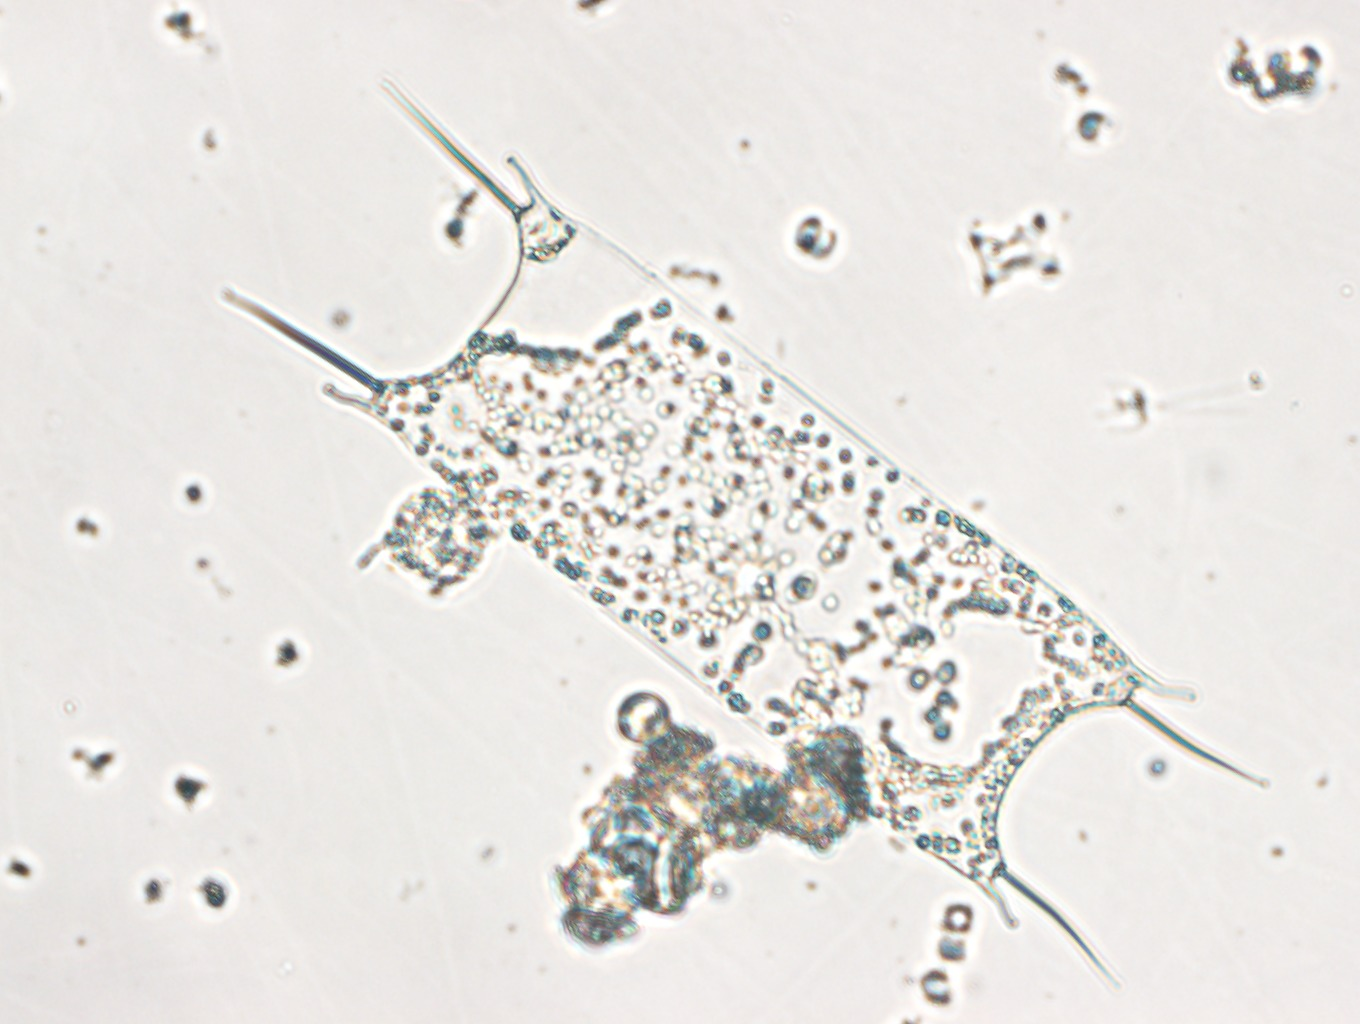biddulphia: (219, 75, 1266, 989)
